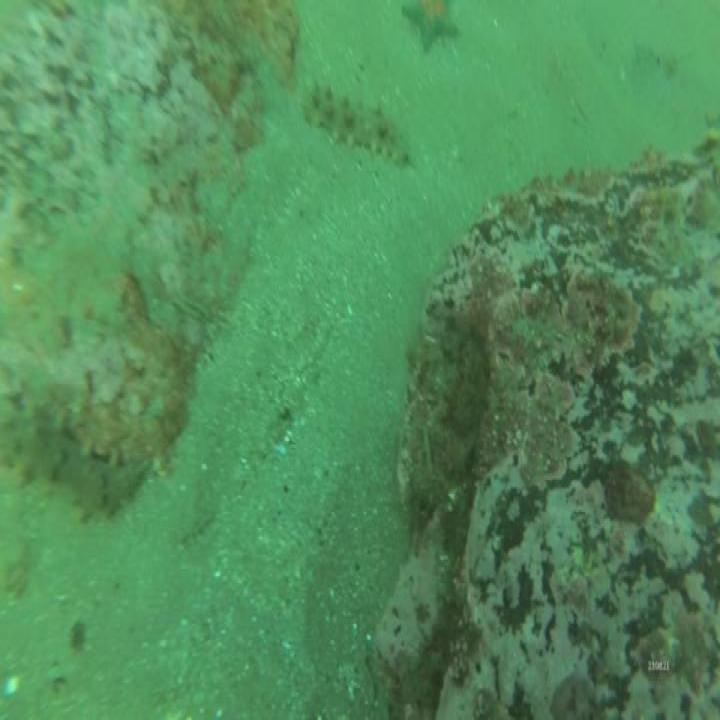holothurian: (0, 411, 151, 528), (299, 80, 409, 171)
starfish: (401, 0, 462, 59)
